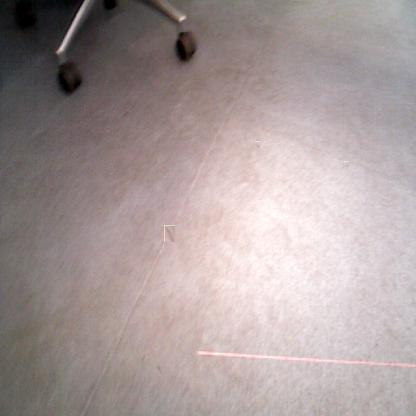mark: (164, 225, 175, 242), (156, 366, 162, 376), (254, 141, 260, 148), (343, 161, 349, 168)
